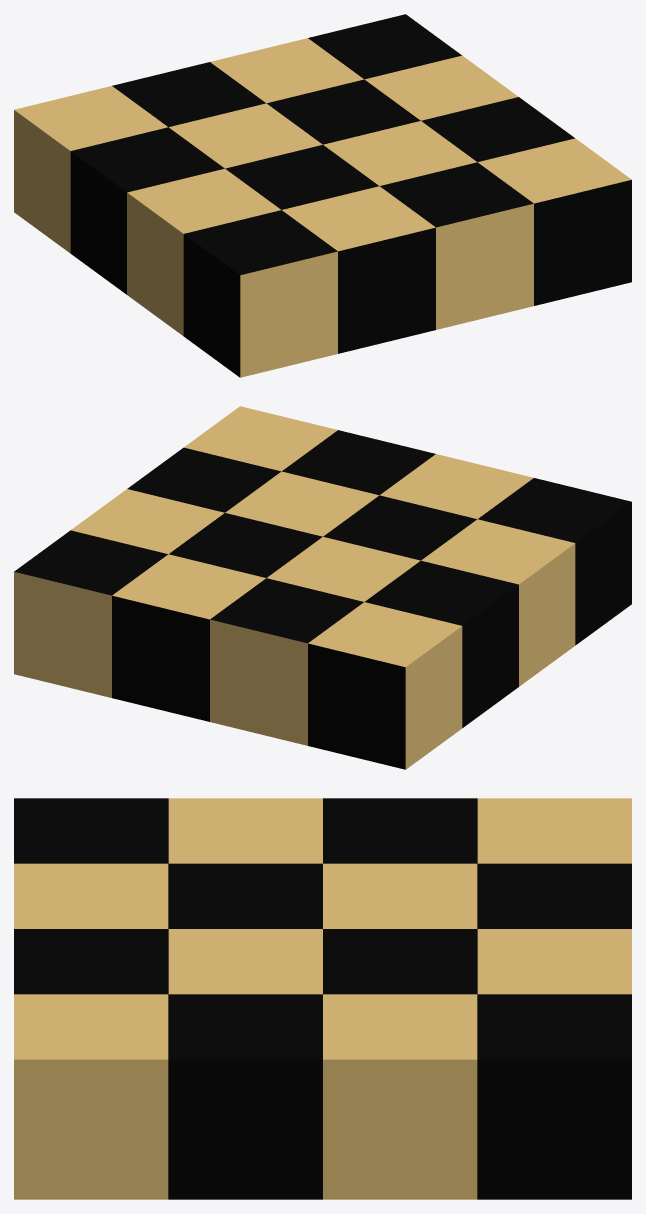
Rendered from 4_4小方格.fbx.
The picture shows the model from 3 angles, top to bottom: view 1: azimuth 30°, elevation 25°; view 2: azimuth 150°, elevation 25°; view 3: azimuth 270°, elevation 25°; orthographic projection. The views are drawn at different scales.
Parts seen in each view (by area): view 1: 4*4小方格.001; view 2: 4*4小方格.001; view 3: 4*4小方格.001.
Part boxes in pixels (x1,y1,x2,y2): 4*4小方格.001: [14, 14, 631, 377]; 4*4小方格.001: [14, 406, 631, 769]; 4*4小方格.001: [14, 798, 631, 1199].
Bounding box in the file's own units: 800 × 200 × 800.
